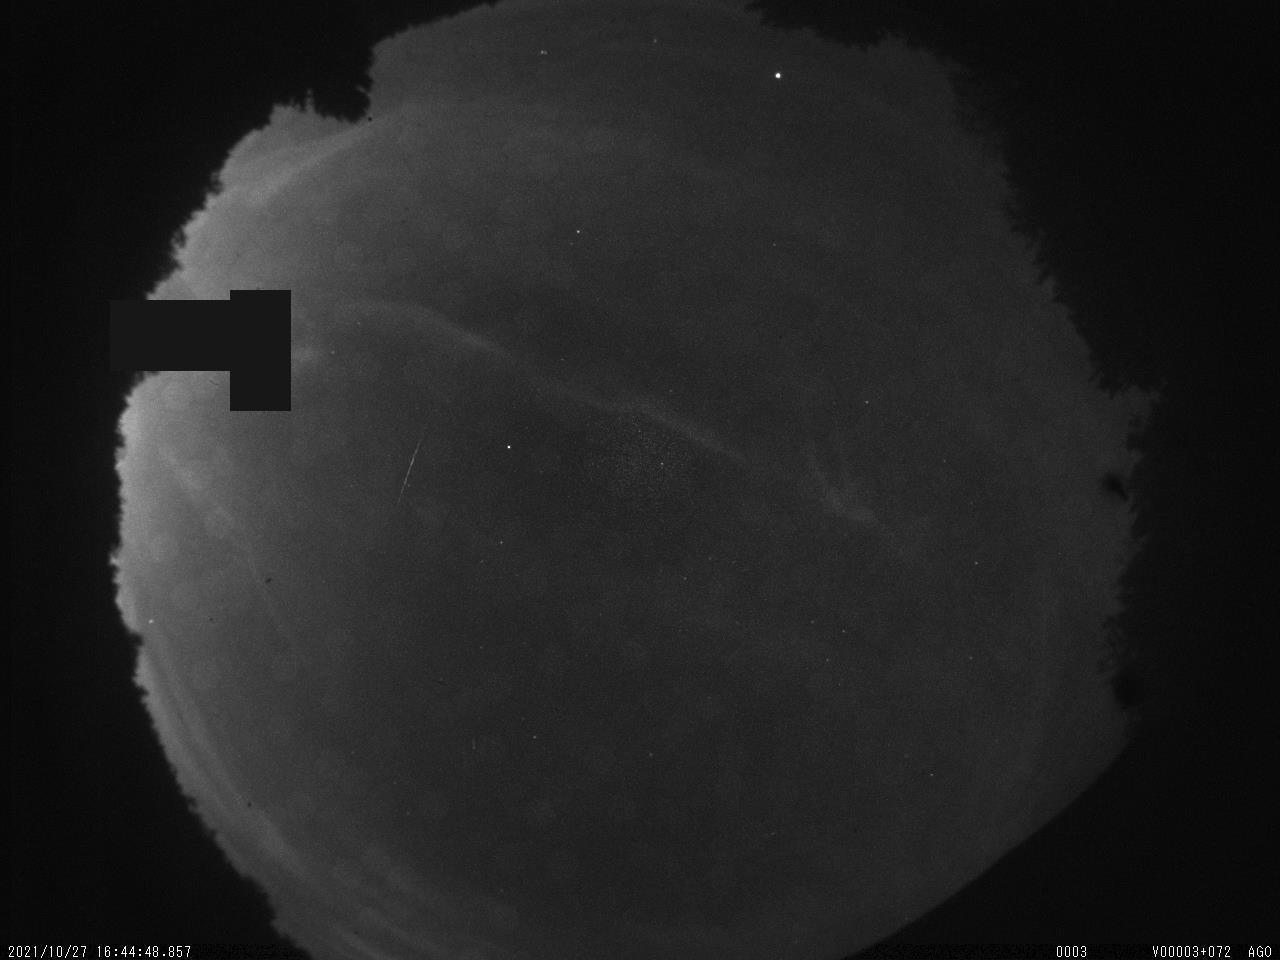Meteor: (393, 430, 434, 503)
